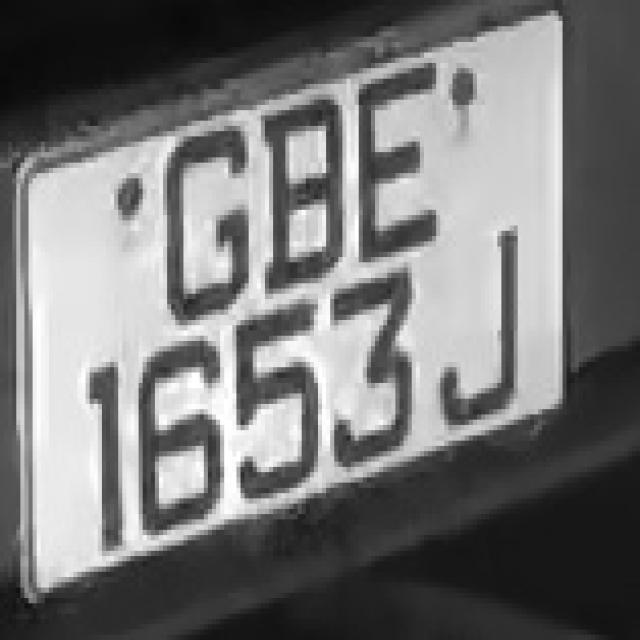1: (78, 341, 134, 572)
3: (314, 278, 428, 472)
5: (232, 278, 318, 509)
6: (126, 336, 225, 546)
B: (257, 78, 359, 310)
E: (342, 52, 452, 268)
G: (155, 110, 261, 336)
J: (432, 231, 530, 425)
